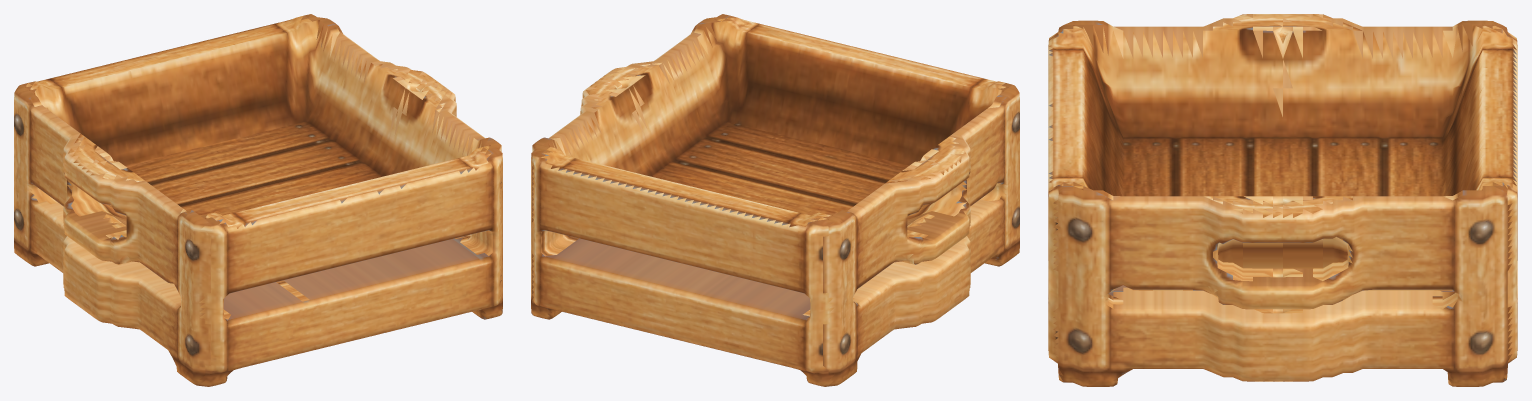
File: crate.glb
3 views of the same model, side by side, from view 1: azimuth 30°, elevation 25°; view 2: azimuth 150°, elevation 25°; view 3: azimuth 270°, elevation 25° (orthographic). The views are drawn at different scales.
Bounding box in the file's own units: 2.27 × 1 × 2.21.
1 material, 1 textured.
